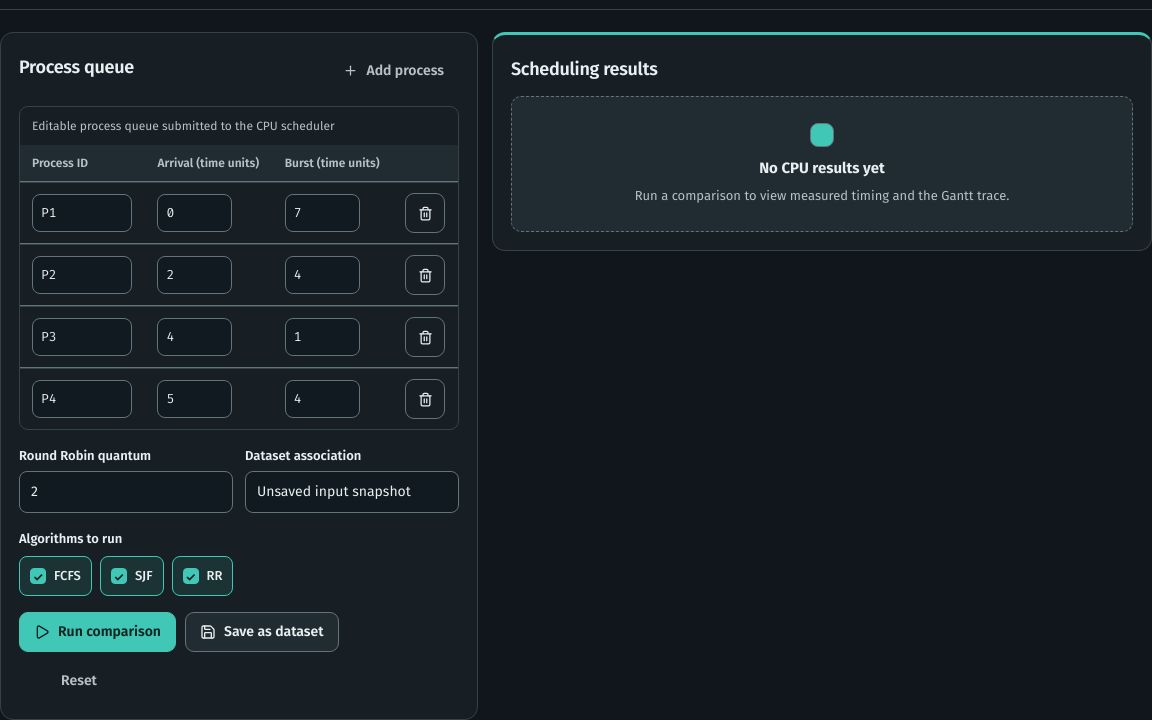
Scenario: CPU simulator page › shows an API error instead of leaving stale success feedback
This screenshot has width=1152, height=720.
(page scrolled)
Click the button "Run comparison": (98,632) left=19, top=612, right=176, bottom=652
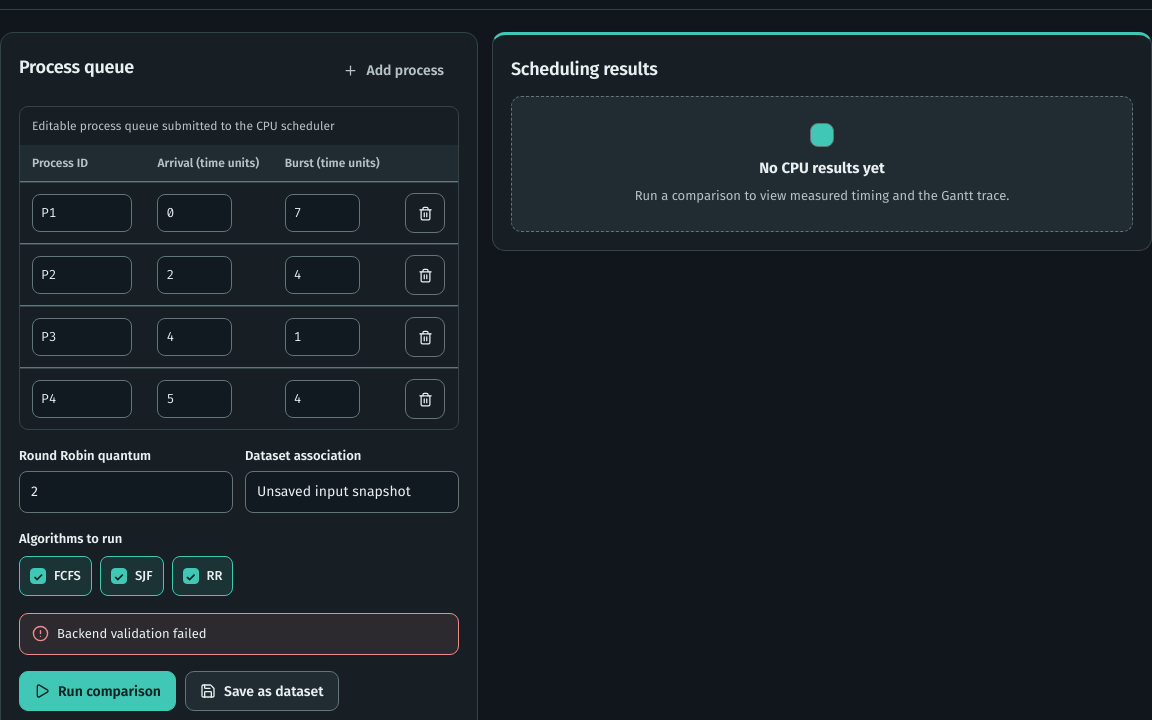
Expected: the message "Backend validation failed" is shown, left=19, top=613, right=459, bottom=655
